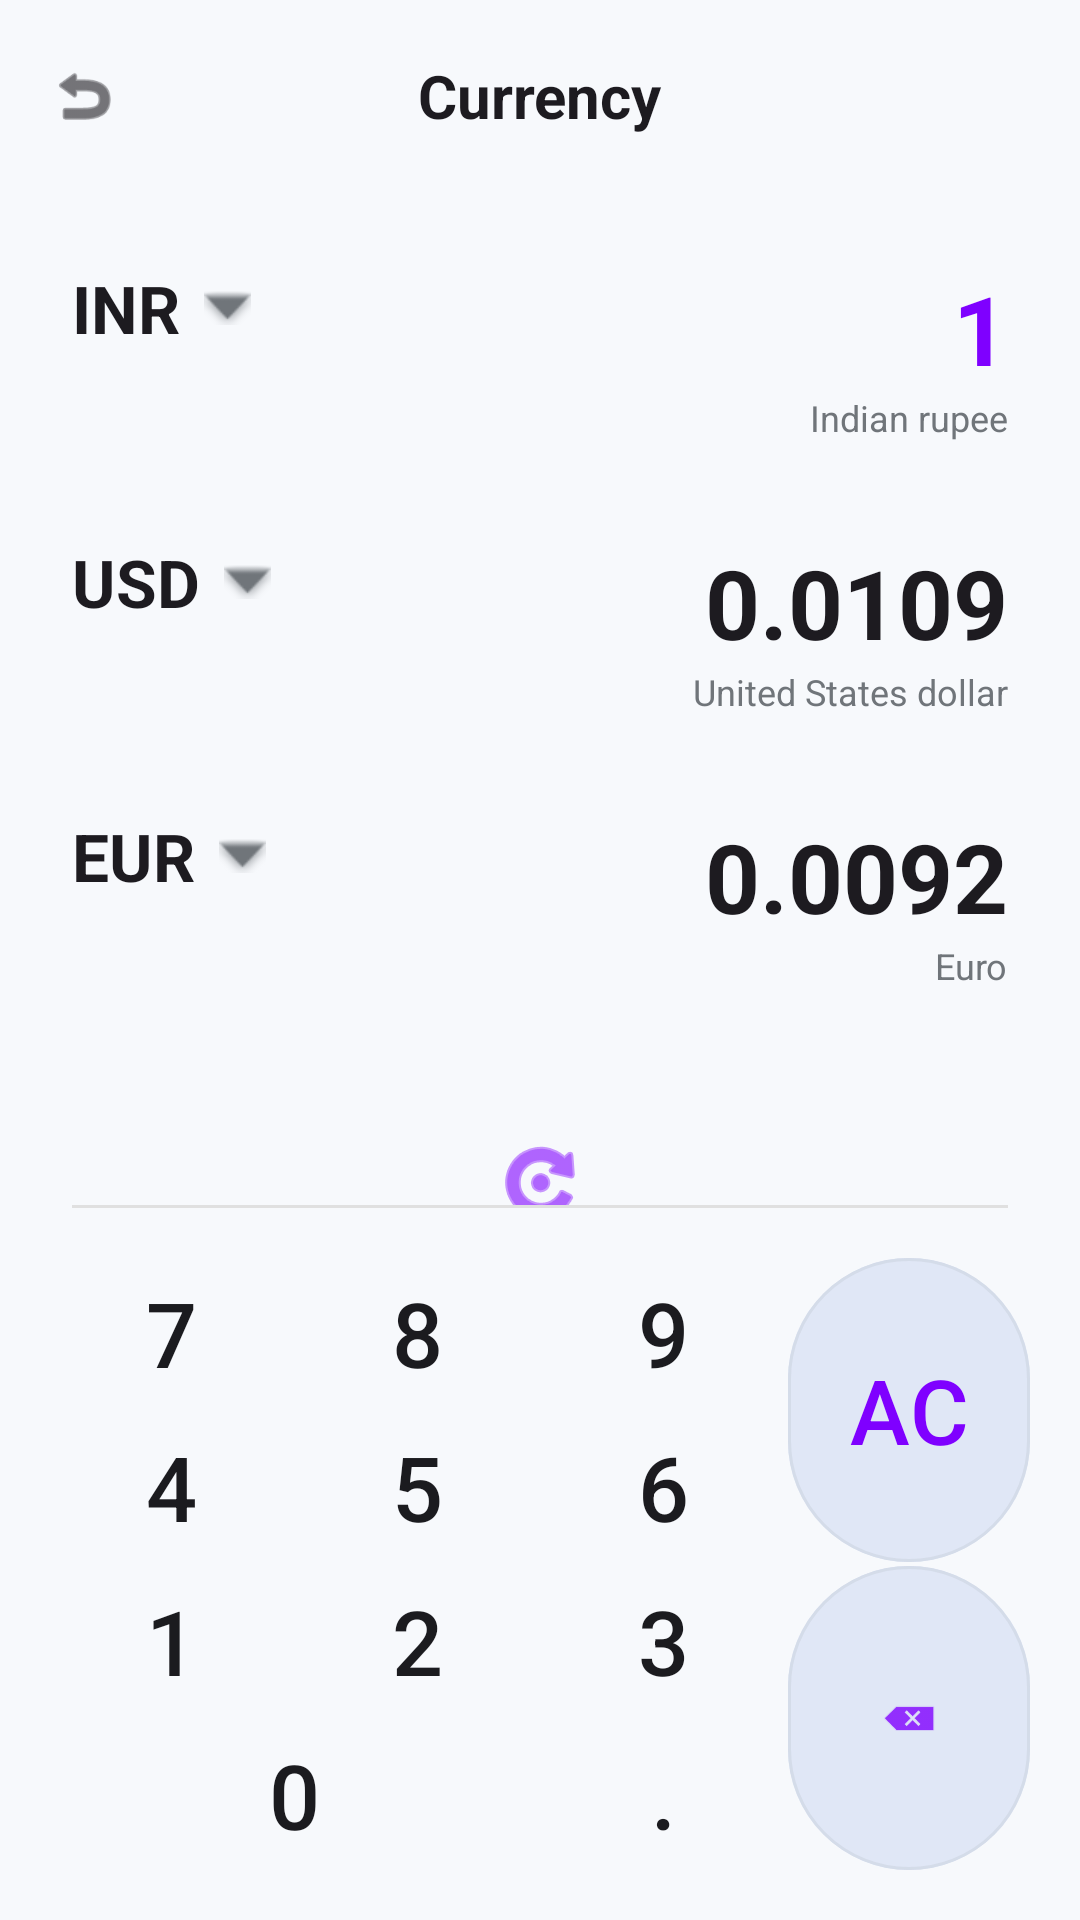

Locate icon controls on the screen. Image size 1080 × 1920, boxes as (x1, y1, x2, y2).
delete: (788, 1566, 1030, 1870)
revert: (59, 73, 111, 120)
